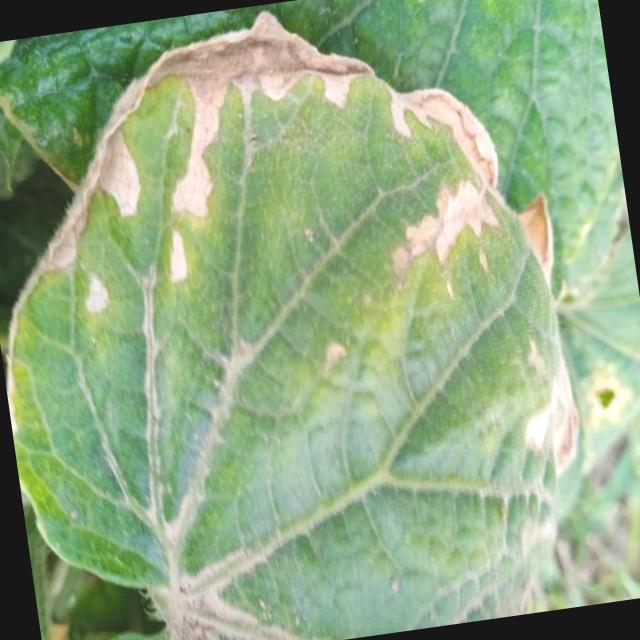cucumber_gummy: (0, 0, 619, 640)
